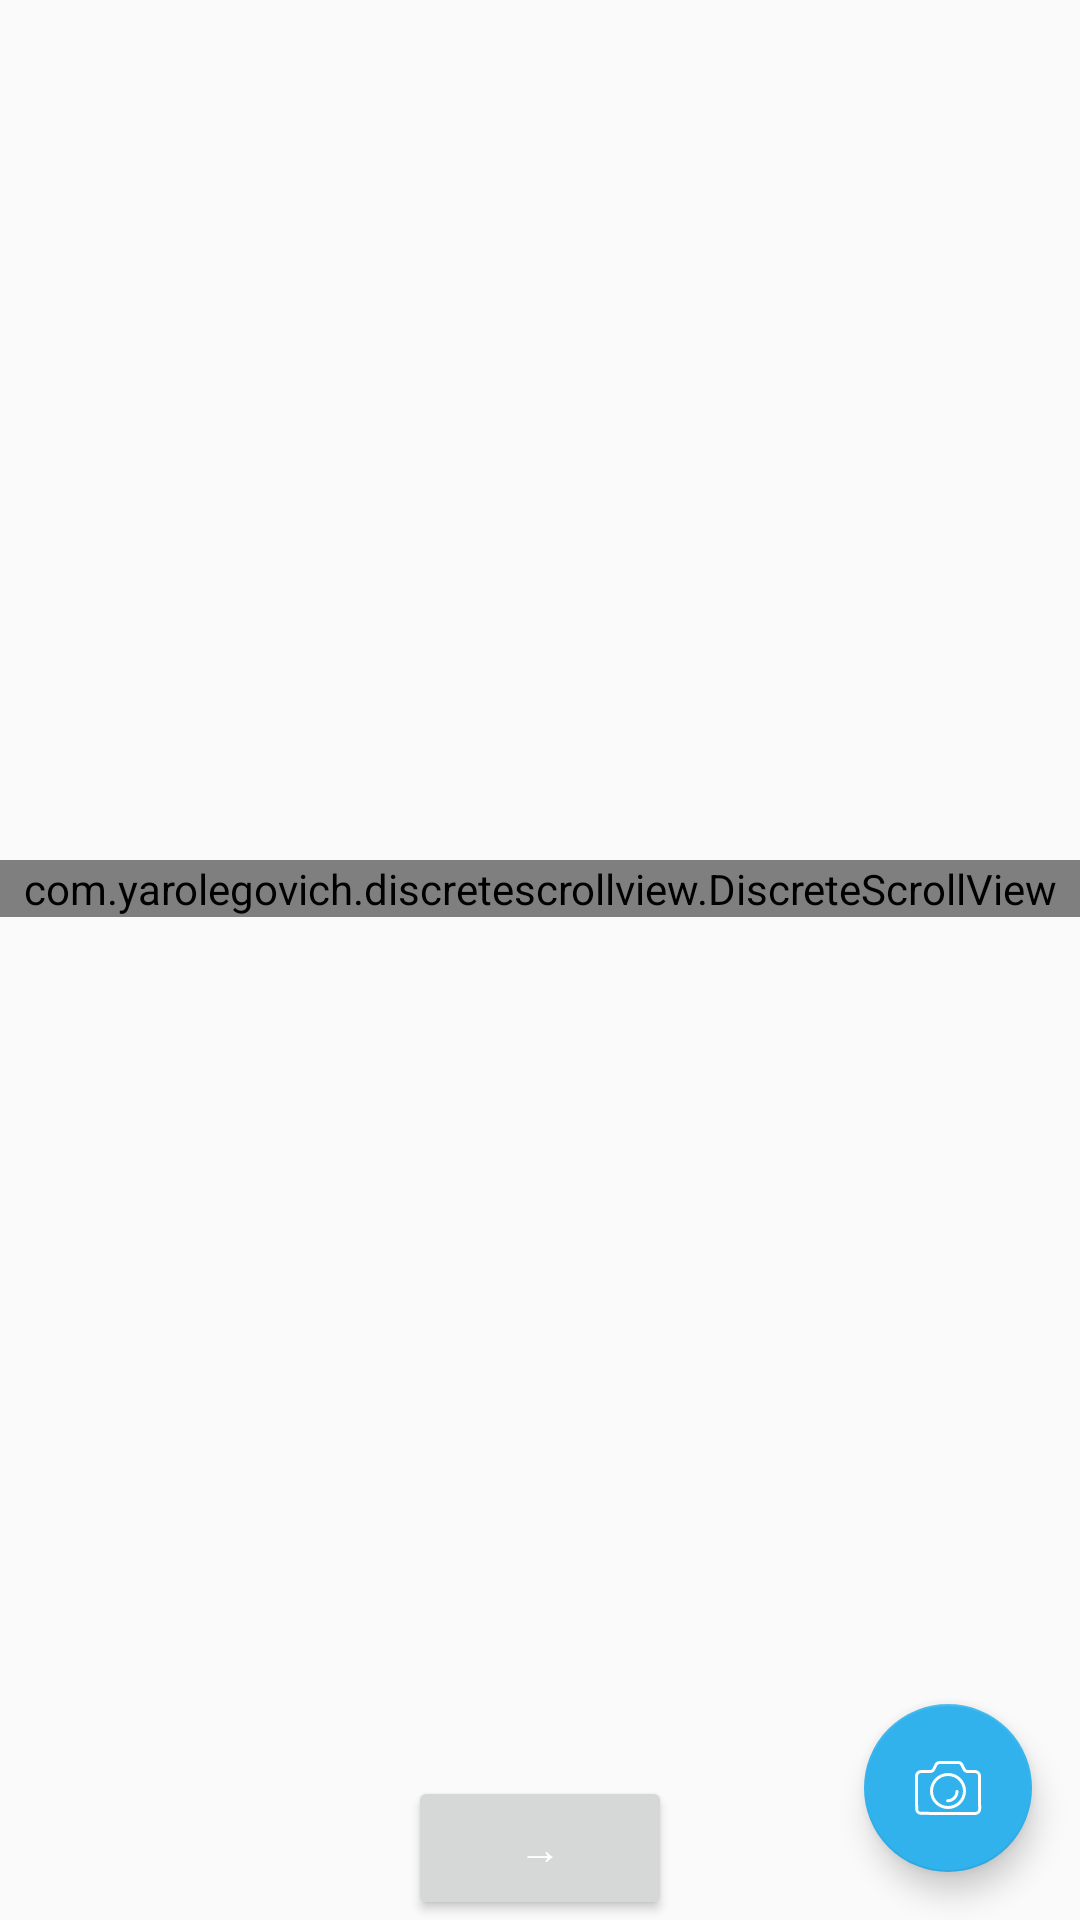

Screen size 1080px x 1920px. Icon name, then its center in pixels as (x=x, y=y):
paizhao: (x=948, y=1788)
